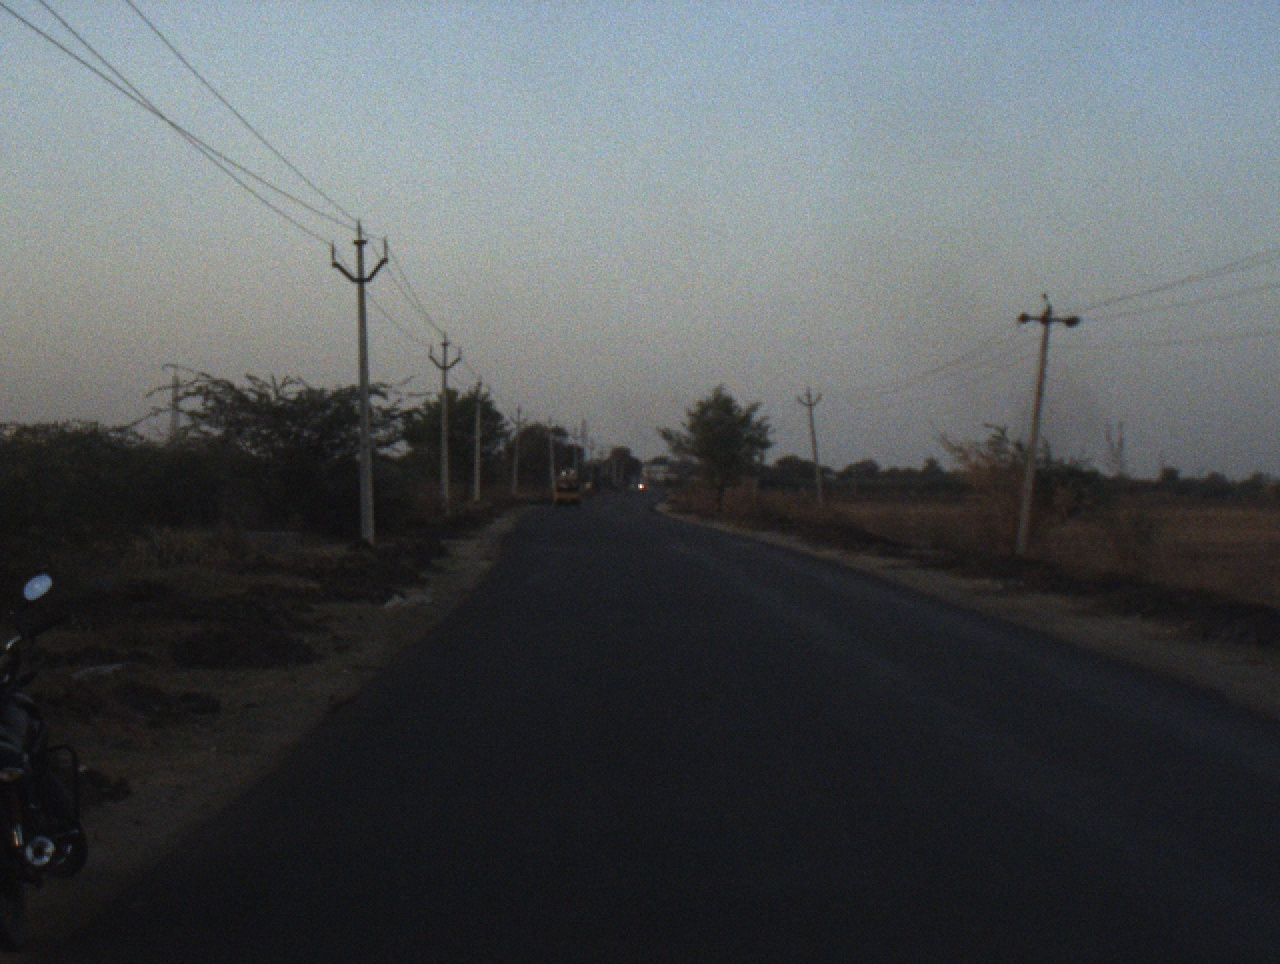autorickshaw: (549, 464, 583, 507)
motorcycle: (1, 570, 113, 942)
vehicle fallback: (581, 480, 595, 501), (636, 474, 646, 493)
